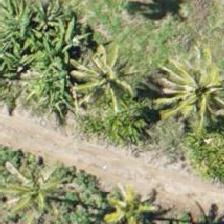coconut_tree: (48, 25, 138, 115), (146, 47, 223, 137), (0, 165, 65, 223)
